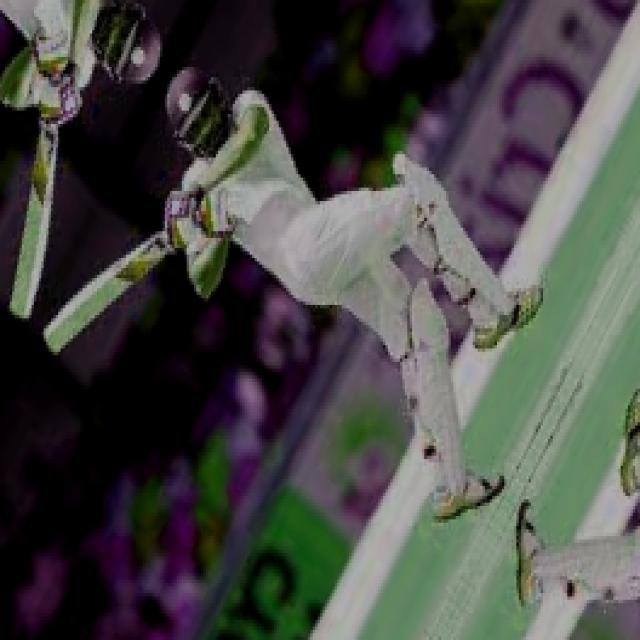toe: (39, 322, 65, 360)
